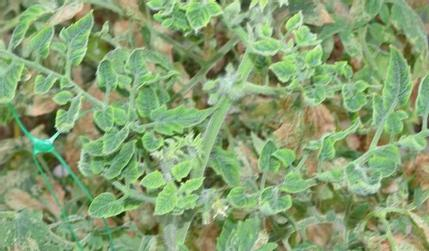Tomato leaf yellow virus: (253, 61, 309, 86), (149, 184, 181, 218), (242, 33, 287, 57), (157, 159, 197, 183), (188, 0, 210, 39)
